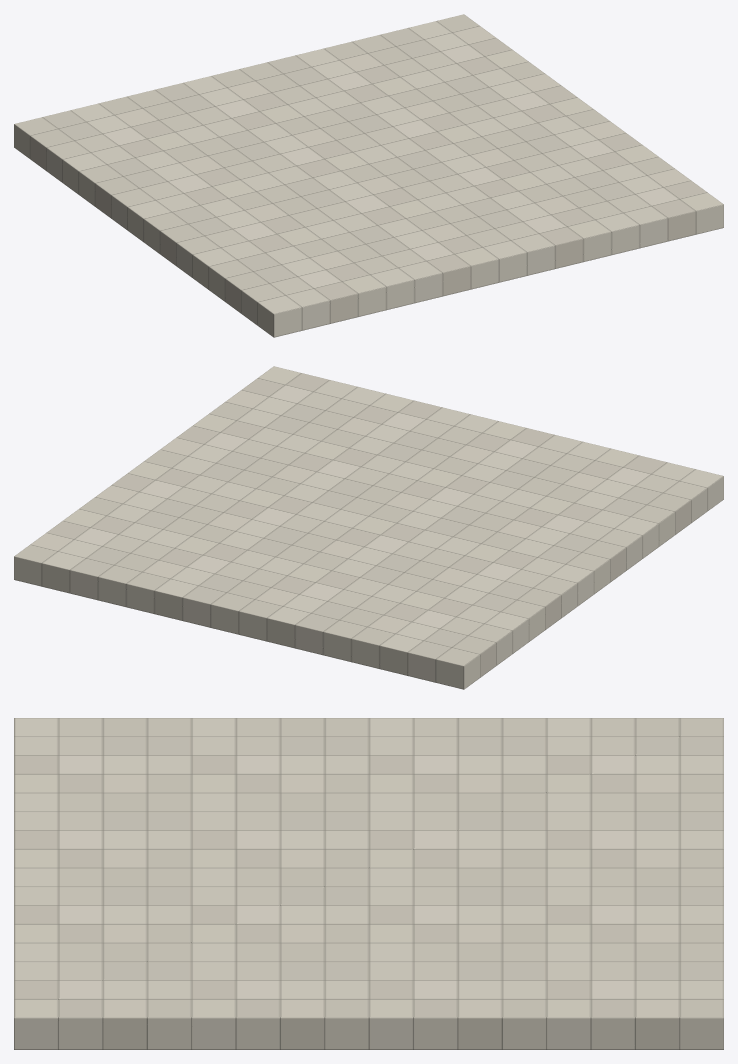
Rendered from MOD_45_Ceiling_SoftLit.glb.
The picture shows the model from 3 angles, top to bottom: view 1: azimuth 30°, elevation 25°; view 2: azimuth 150°, elevation 25°; view 3: azimuth 270°, elevation 25°; orthographic projection. The views are drawn at different scales.
Visible parts, largest first — view 1: MOD_45_Ceiling_SoftLit_Export; view 2: MOD_45_Ceiling_SoftLit_Export; view 3: MOD_45_Ceiling_SoftLit_Export.
Part boxes in pixels (<box>): MOD_45_Ceiling_SoftLit_Export: <box>14,14,723,337</box>; MOD_45_Ceiling_SoftLit_Export: <box>14,366,723,689</box>; MOD_45_Ceiling_SoftLit_Export: <box>14,718,723,1049</box>.
Bounding box in the file's own units: 4 × 0.21 × 4.
2 materials, 1 textured.
